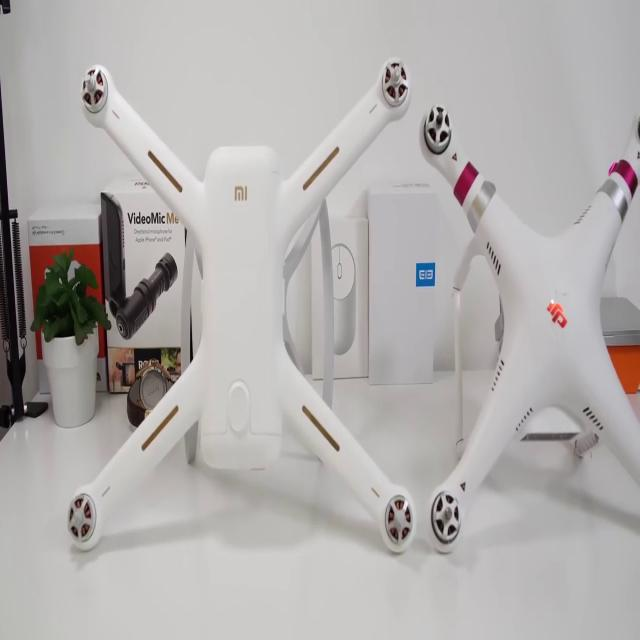drone: (61, 37, 417, 551), (413, 80, 640, 562)
